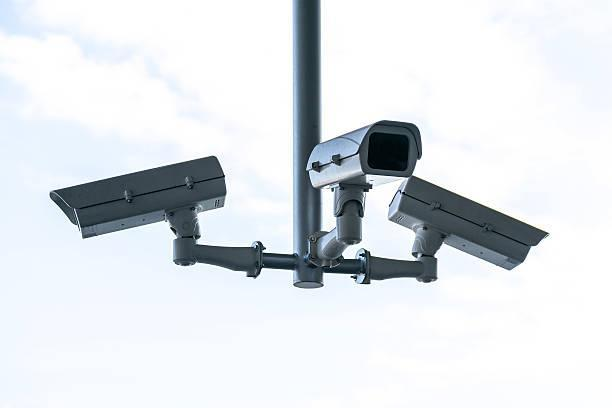camera: (28, 136, 251, 244), (390, 165, 554, 296), (267, 106, 434, 199)
